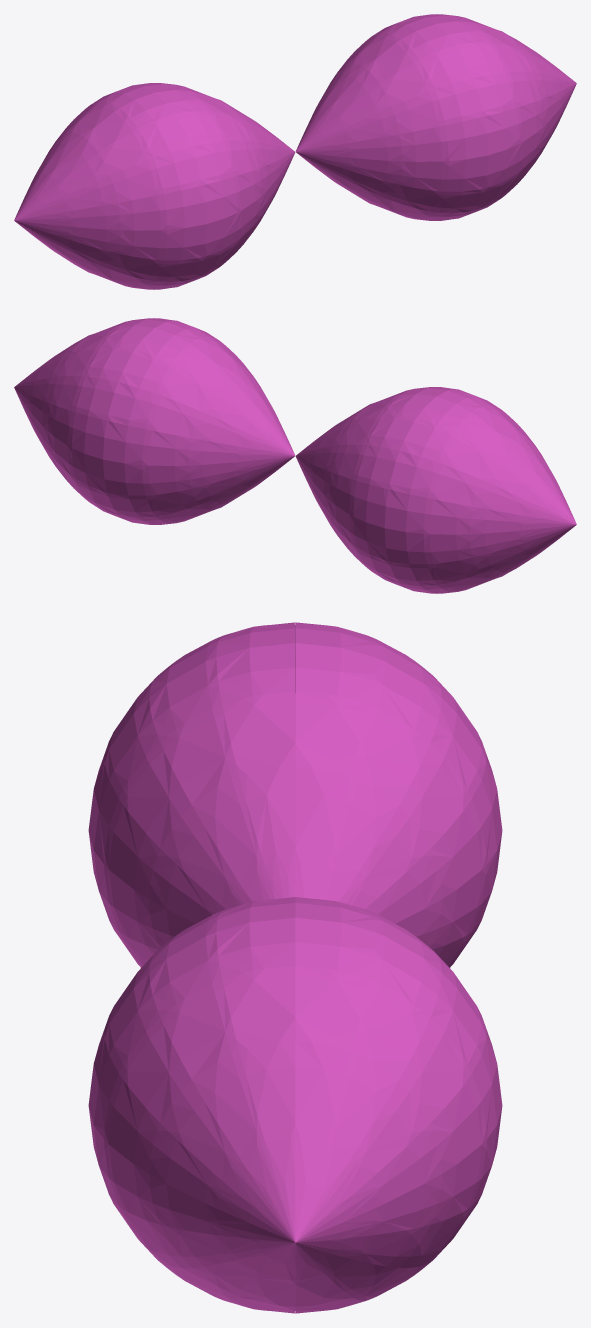
File: sinx.dae
3 renders of one model, top to bottom at view 1: azimuth 30°, elevation 25°; view 2: azimuth 150°, elevation 25°; view 3: azimuth 270°, elevation 25°, orthographic. The views are drawn at different scales.
Parts seen in each view (by area): view 1: Sinx; view 2: Sinx; view 3: Sinx.
Boxes of the visible parts, x1=… form: Sinx: x1=14, y1=14, x2=576, y2=289; Sinx: x1=14, y1=318, x2=576, y2=593; Sinx: x1=88, y1=622, x2=502, y2=1313.
Bounding box in the file's own units: 6.28 × 2 × 2.
